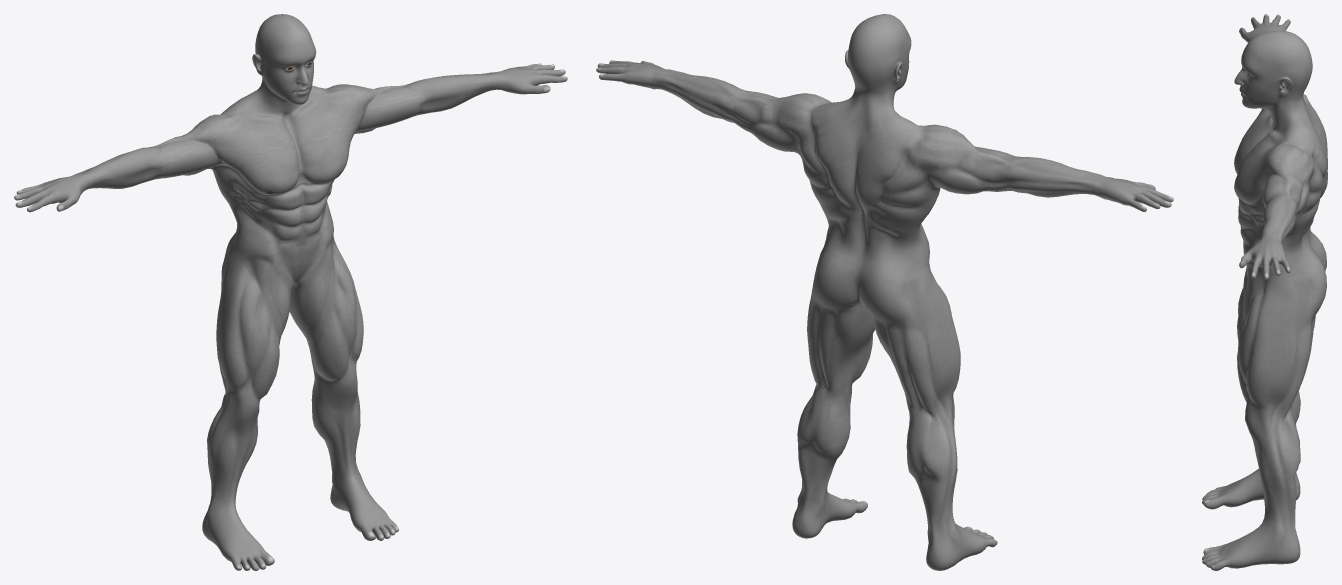
Rendered from body.glb.
The picture shows the model from 3 angles, left to right: view 1: azimuth 30°, elevation 25°; view 2: azimuth 150°, elevation 25°; view 3: azimuth 270°, elevation 25°; orthographic projection. The views are drawn at different scales.
Parts seen in each view (by area): view 1: body_low; view 2: body_low; view 3: body_low.
Part boxes in pixels (x1,y1,x2,y2): body_low: (14,14,567,570); body_low: (596,14,1173,570); body_low: (1202,14,1327,570).
Bounding box in the file's own units: 0.1994 × 0.1771 × 0.0404.
3 materials, 2 textured.
